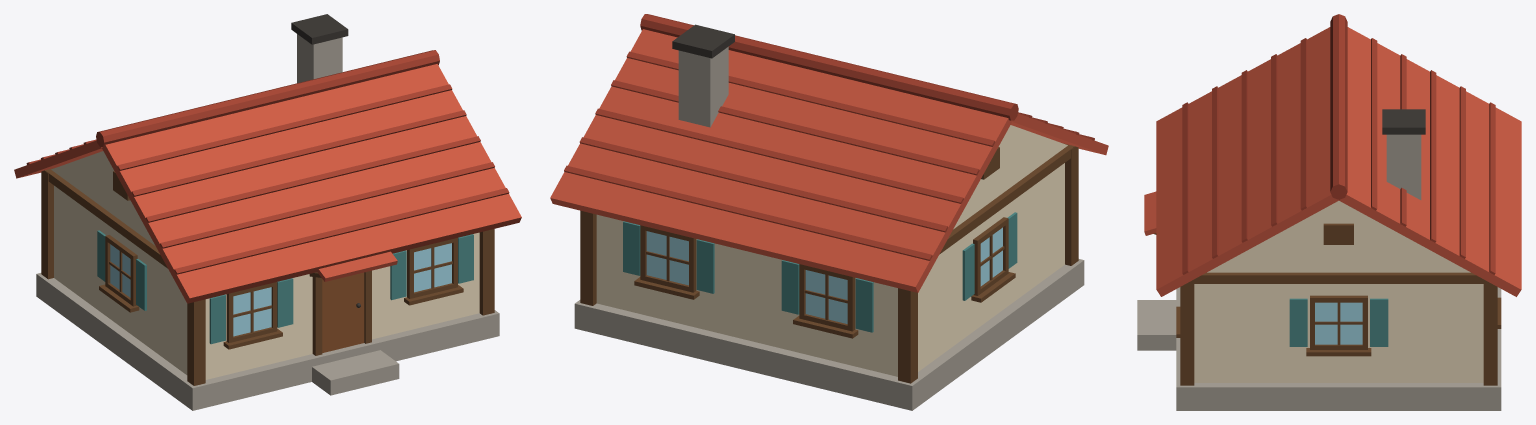
Rendered from house.glb.
3 views of the same model, side by side, from view 1: azimuth 30°, elevation 25°; view 2: azimuth 150°, elevation 25°; view 3: azimuth 270°, elevation 25° (orthographic). The views are drawn at different scales.
Parts seen in each view (by area): view 1: House; view 2: House; view 3: House.
Part boxes in pixels (box(x1,y1,x2,y2)): House: box(14, 14, 521, 410); House: box(550, 14, 1108, 410); House: box(1137, 14, 1521, 410).
Bounding box in the file's own units: 9.3 × 6.54 × 8.86.
